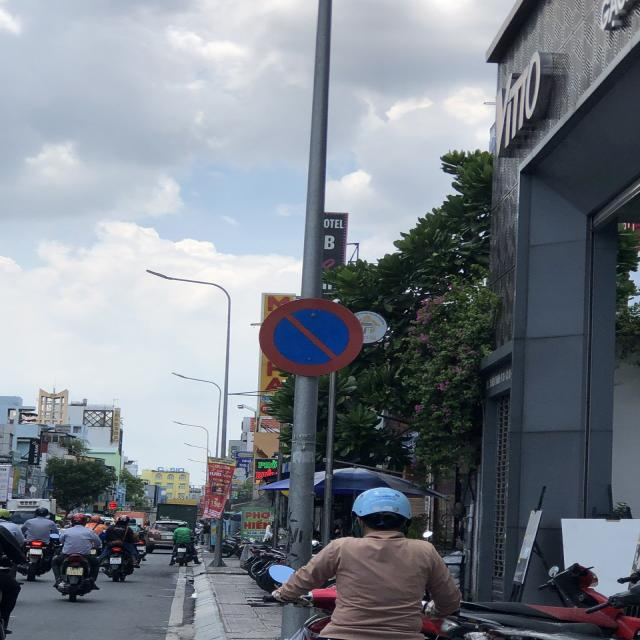Bien bao cam do xe: (257, 296, 365, 376)
